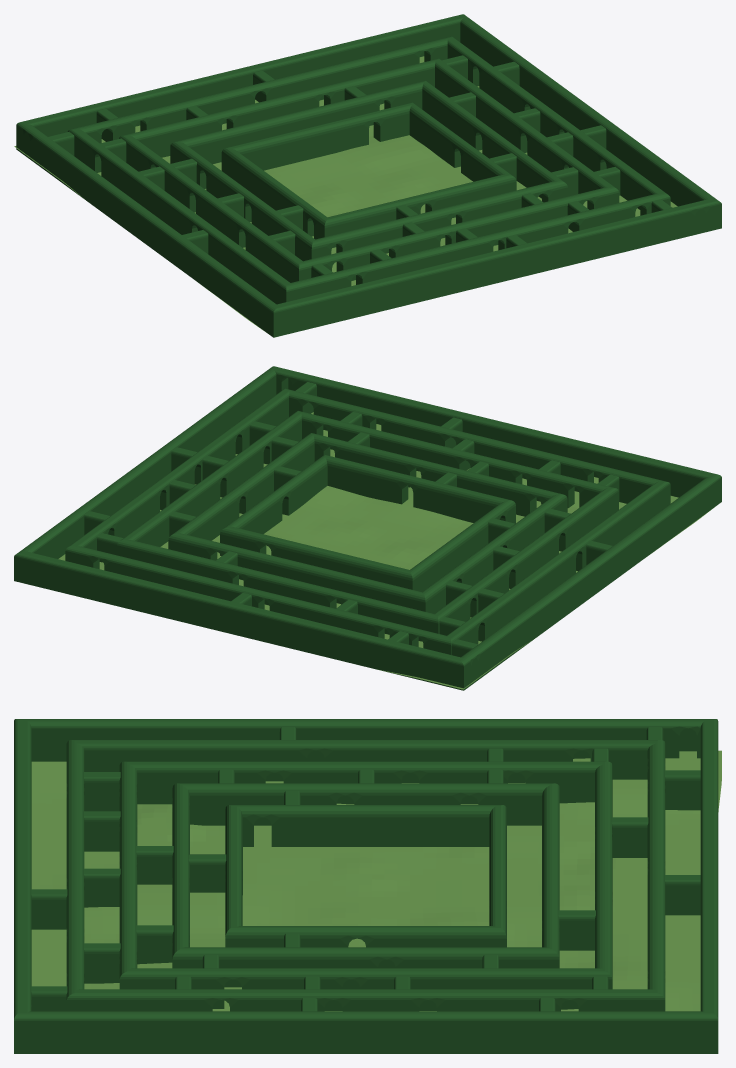
Rendered from Maze 10.fbx.
3 views of the same model, one above another, from view 1: azimuth 30°, elevation 25°; view 2: azimuth 150°, elevation 25°; view 3: azimuth 270°, elevation 25° (orthographic). The views are drawn at different scales.
Visible parts, largest first — view 1: Walls 1.010, Walls 2.010, Walls 3.010, Walls 4.011, Walls 5.010, Floor.011; view 2: Walls 1.010, Walls 2.010, Walls 3.010, Walls 4.011, Walls 5.010, Floor.011; view 3: Floor.011, Walls 1.010, Walls 2.010, Walls 3.010, Walls 4.011, Walls 5.010, Bush Blocker.288, Bush Blocker.291, Bush Blocker.280, Bush Blocker.286, Bush Blocker.282, Bush Blocker.289 (+7 smaller).
Boxes of the visible parts, x1,y1,x2,y2 form: Walls 1.010: [16, 14, 721, 337]; Walls 2.010: [67, 36, 670, 304]; Walls 3.010: [119, 58, 619, 282]; Walls 4.011: [170, 80, 567, 261]; Walls 5.010: [221, 102, 516, 247]; Floor.011: [14, 56, 677, 331]; Walls 1.010: [14, 366, 721, 690]; Walls 2.010: [65, 388, 670, 654]; Walls 3.010: [117, 411, 618, 641]; Walls 4.011: [168, 433, 567, 613]; Walls 5.010: [220, 455, 515, 591]; Floor.011: [58, 412, 714, 689]; Floor.011: [31, 750, 721, 1011]; Walls 1.010: [14, 719, 718, 1053]; Walls 2.010: [66, 740, 665, 1011]; Walls 3.010: [119, 761, 612, 1010]; Walls 4.011: [172, 783, 559, 989]; Walls 5.010: [225, 805, 506, 968]; Bush Blocker.288: [558, 910, 595, 950]; Bush Blocker.291: [611, 817, 648, 857]; Bush Blocker.280: [31, 889, 67, 929]; Bush Blocker.286: [84, 811, 120, 851]; Bush Blocker.282: [84, 943, 120, 983]; Bush Blocker.289: [665, 875, 700, 915].
Bounding box in the file's own units: 6009 × 368 × 5992.
